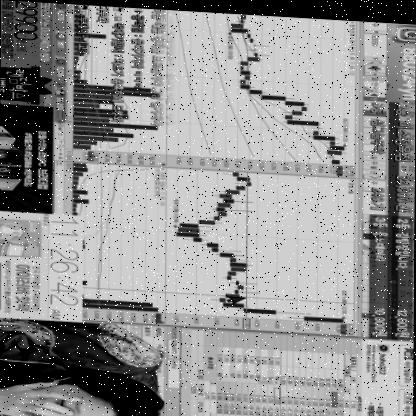streamer: (0, 329, 165, 416)
